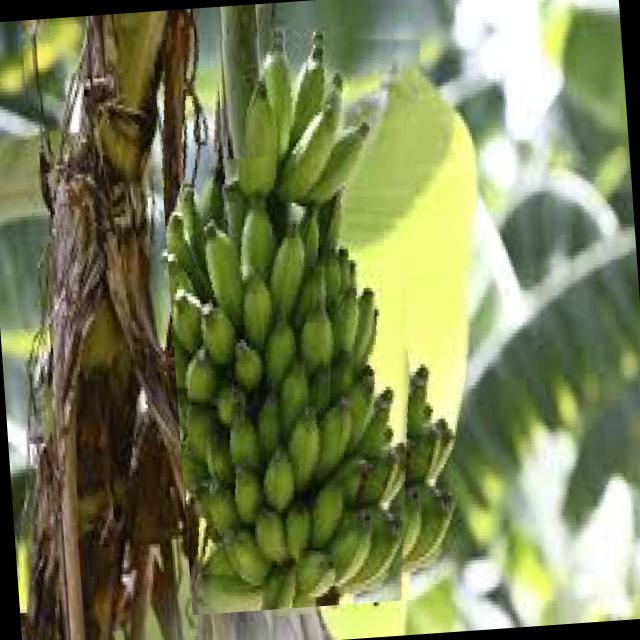Organic: (152, 18, 458, 614), (212, 4, 272, 160)
